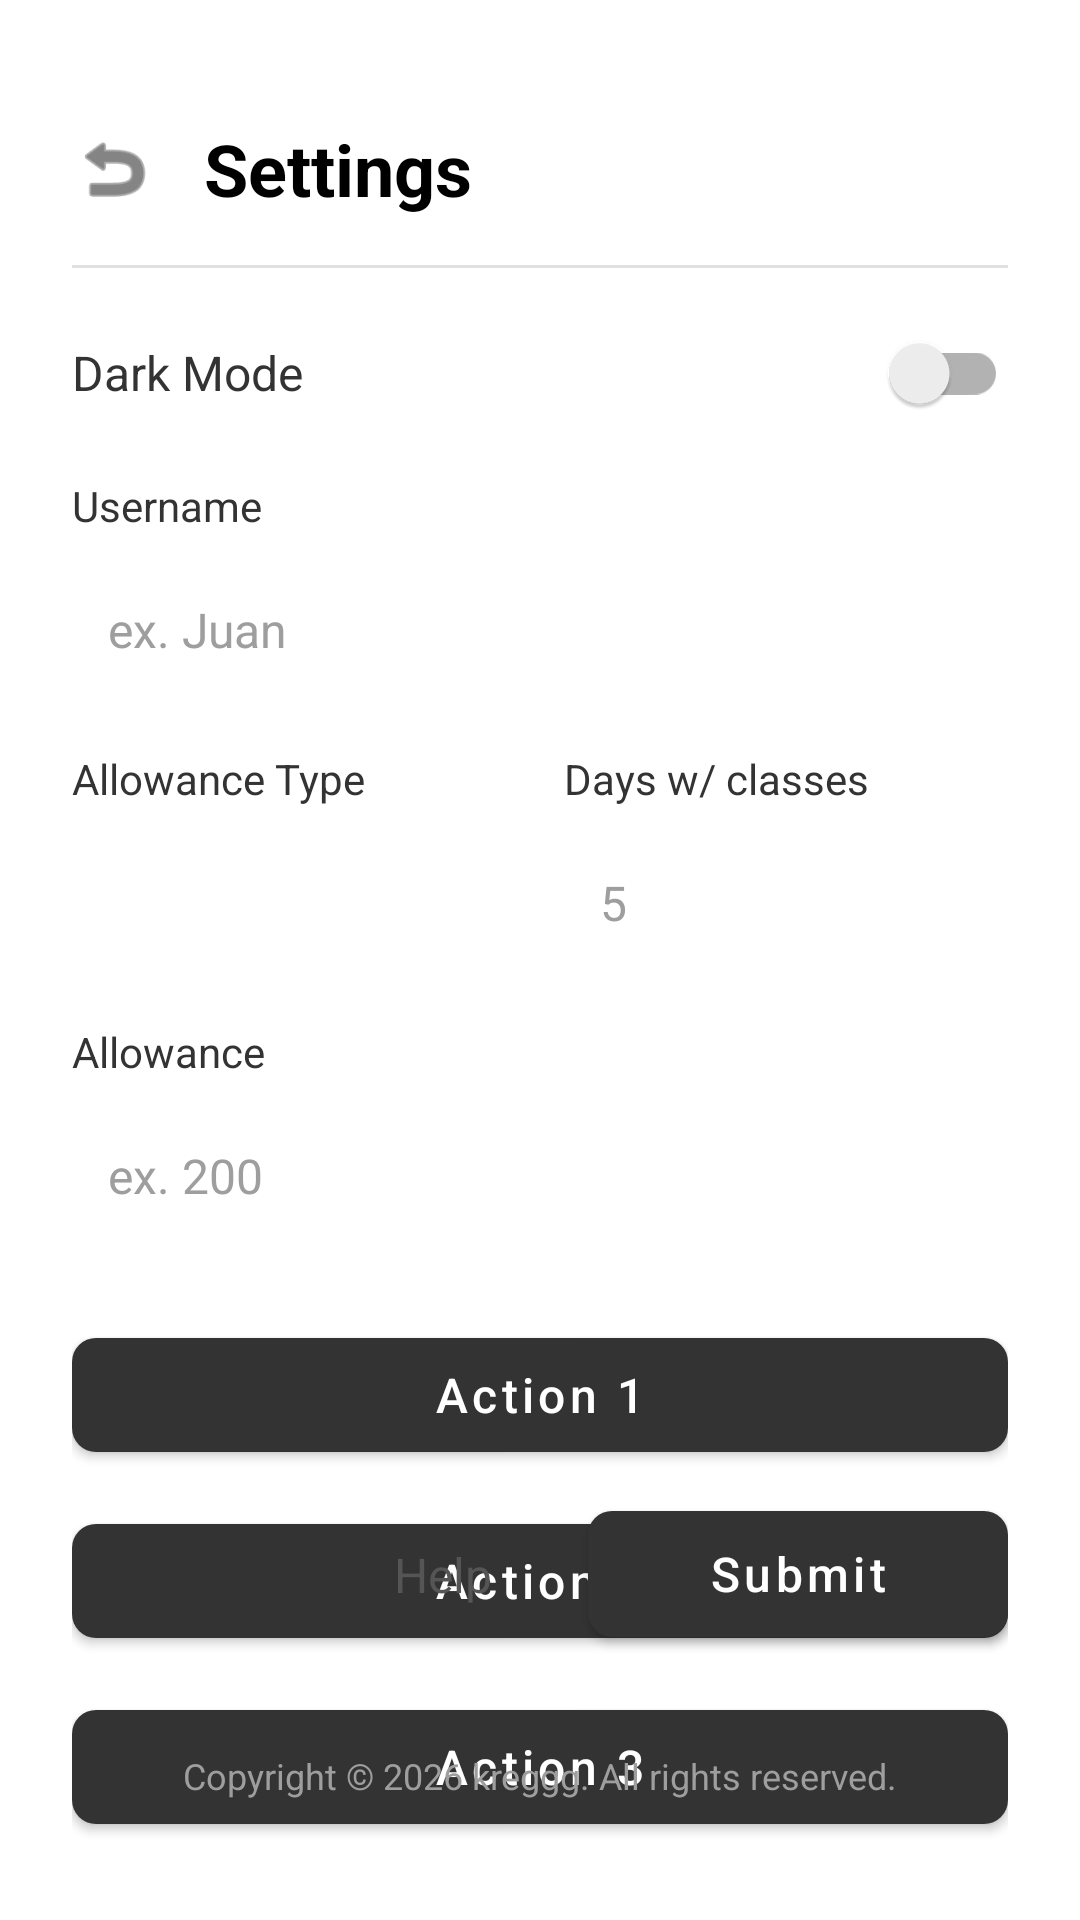

Screen size 1080×1920. Icon name, then its box in pixels as [x1,y1,x2,y2]:
revert: [85,142,145,197]
